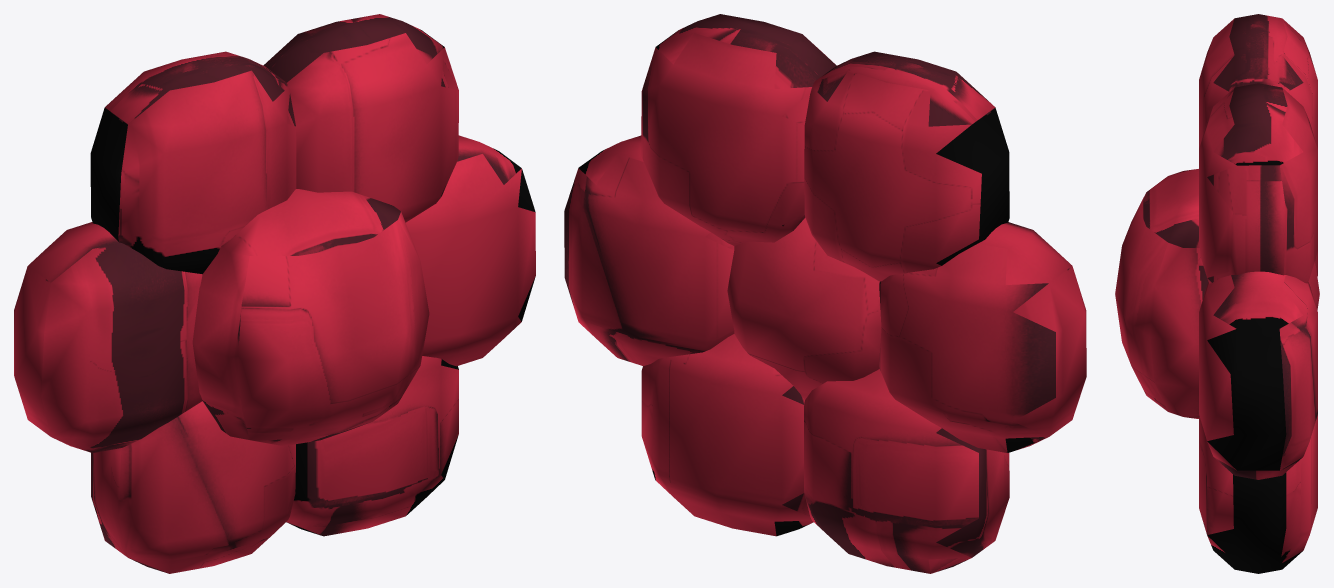
The model's file is Mascarada_Saco_Cofradia.fbx.
The picture shows the model from 3 angles, left to right: view 1: azimuth 30°, elevation 25°; view 2: azimuth 150°, elevation 25°; view 3: azimuth 270°, elevation 25°; orthographic projection. The views are drawn at different scales.
Visible parts, largest first — view 1: Mascarada_Saco_Cofradia; view 2: Mascarada_Saco_Cofradia; view 3: Mascarada_Saco_Cofradia.
Boxes of the visible parts, x1,y1,x2,y2 form: Mascarada_Saco_Cofradia: [14, 14, 535, 573]; Mascarada_Saco_Cofradia: [564, 14, 1086, 573]; Mascarada_Saco_Cofradia: [1115, 14, 1319, 573].
Bounding box in the file's own units: 0.1844 × 0.1775 × 0.0714.
